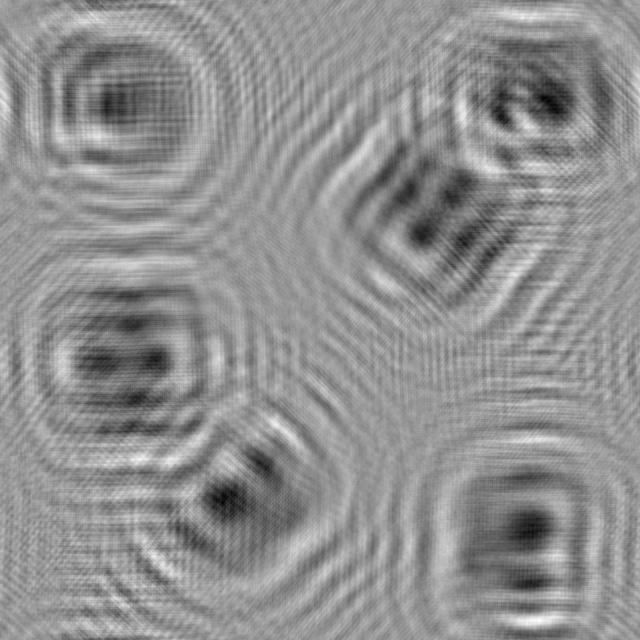F: (109, 364, 370, 611), (413, 414, 640, 640), (430, 0, 640, 209)
H: (284, 67, 573, 349), (0, 224, 257, 508)
J: (0, 0, 244, 218)
